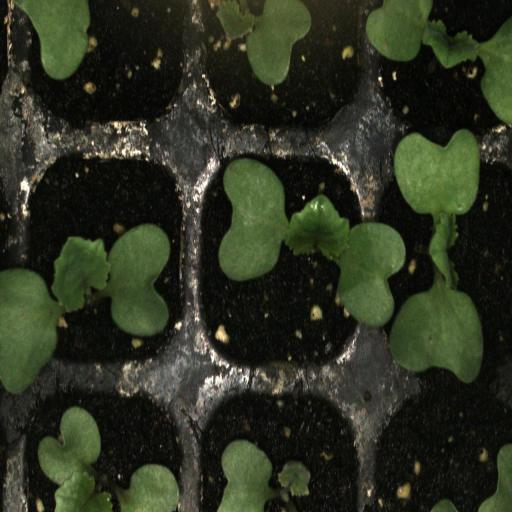Folha: (212, 0, 314, 87), (217, 439, 310, 512), (13, 0, 91, 80)
Germinacao: (6, 130, 190, 381), (190, 135, 372, 385), (373, 136, 512, 382), (10, 382, 188, 512), (373, 0, 512, 132)
